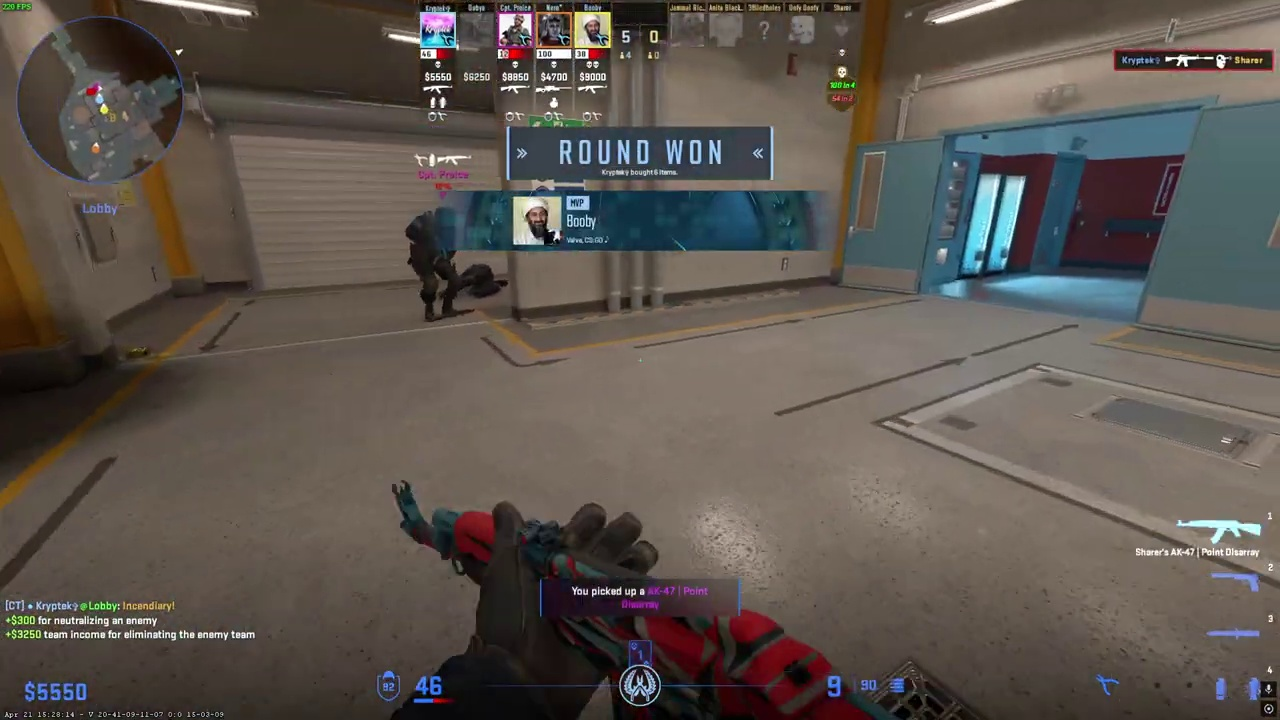CT: (408, 206, 461, 322)
